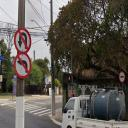NoVirarEsquerda: (14, 53, 32, 79)
NoVirarU: (13, 28, 31, 54)
